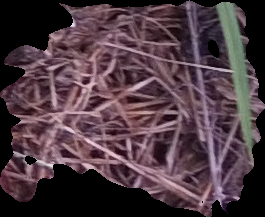soil: (2, 1, 265, 216)
